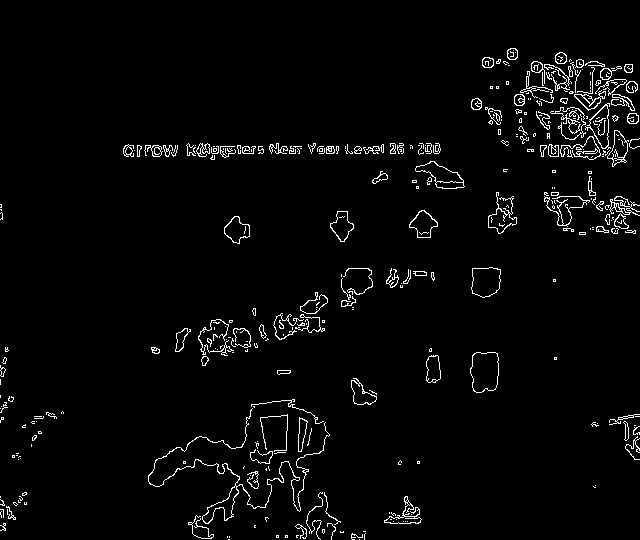down: (324, 205, 362, 248)
left: (217, 212, 259, 253)
right: (480, 203, 522, 243)
up: (404, 205, 445, 248)
